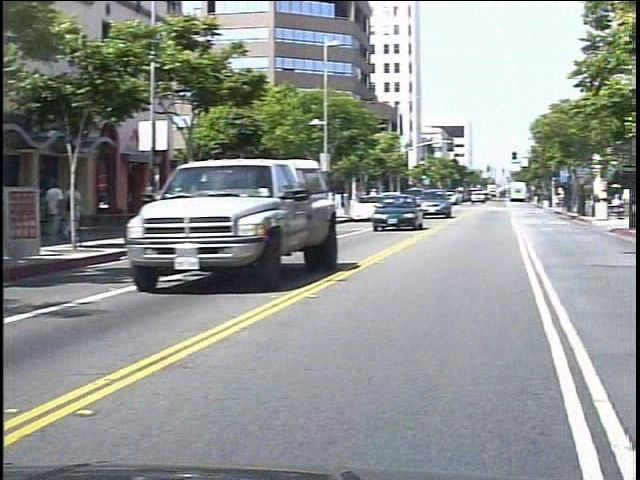person: (55, 176, 77, 240), (73, 179, 94, 243)
